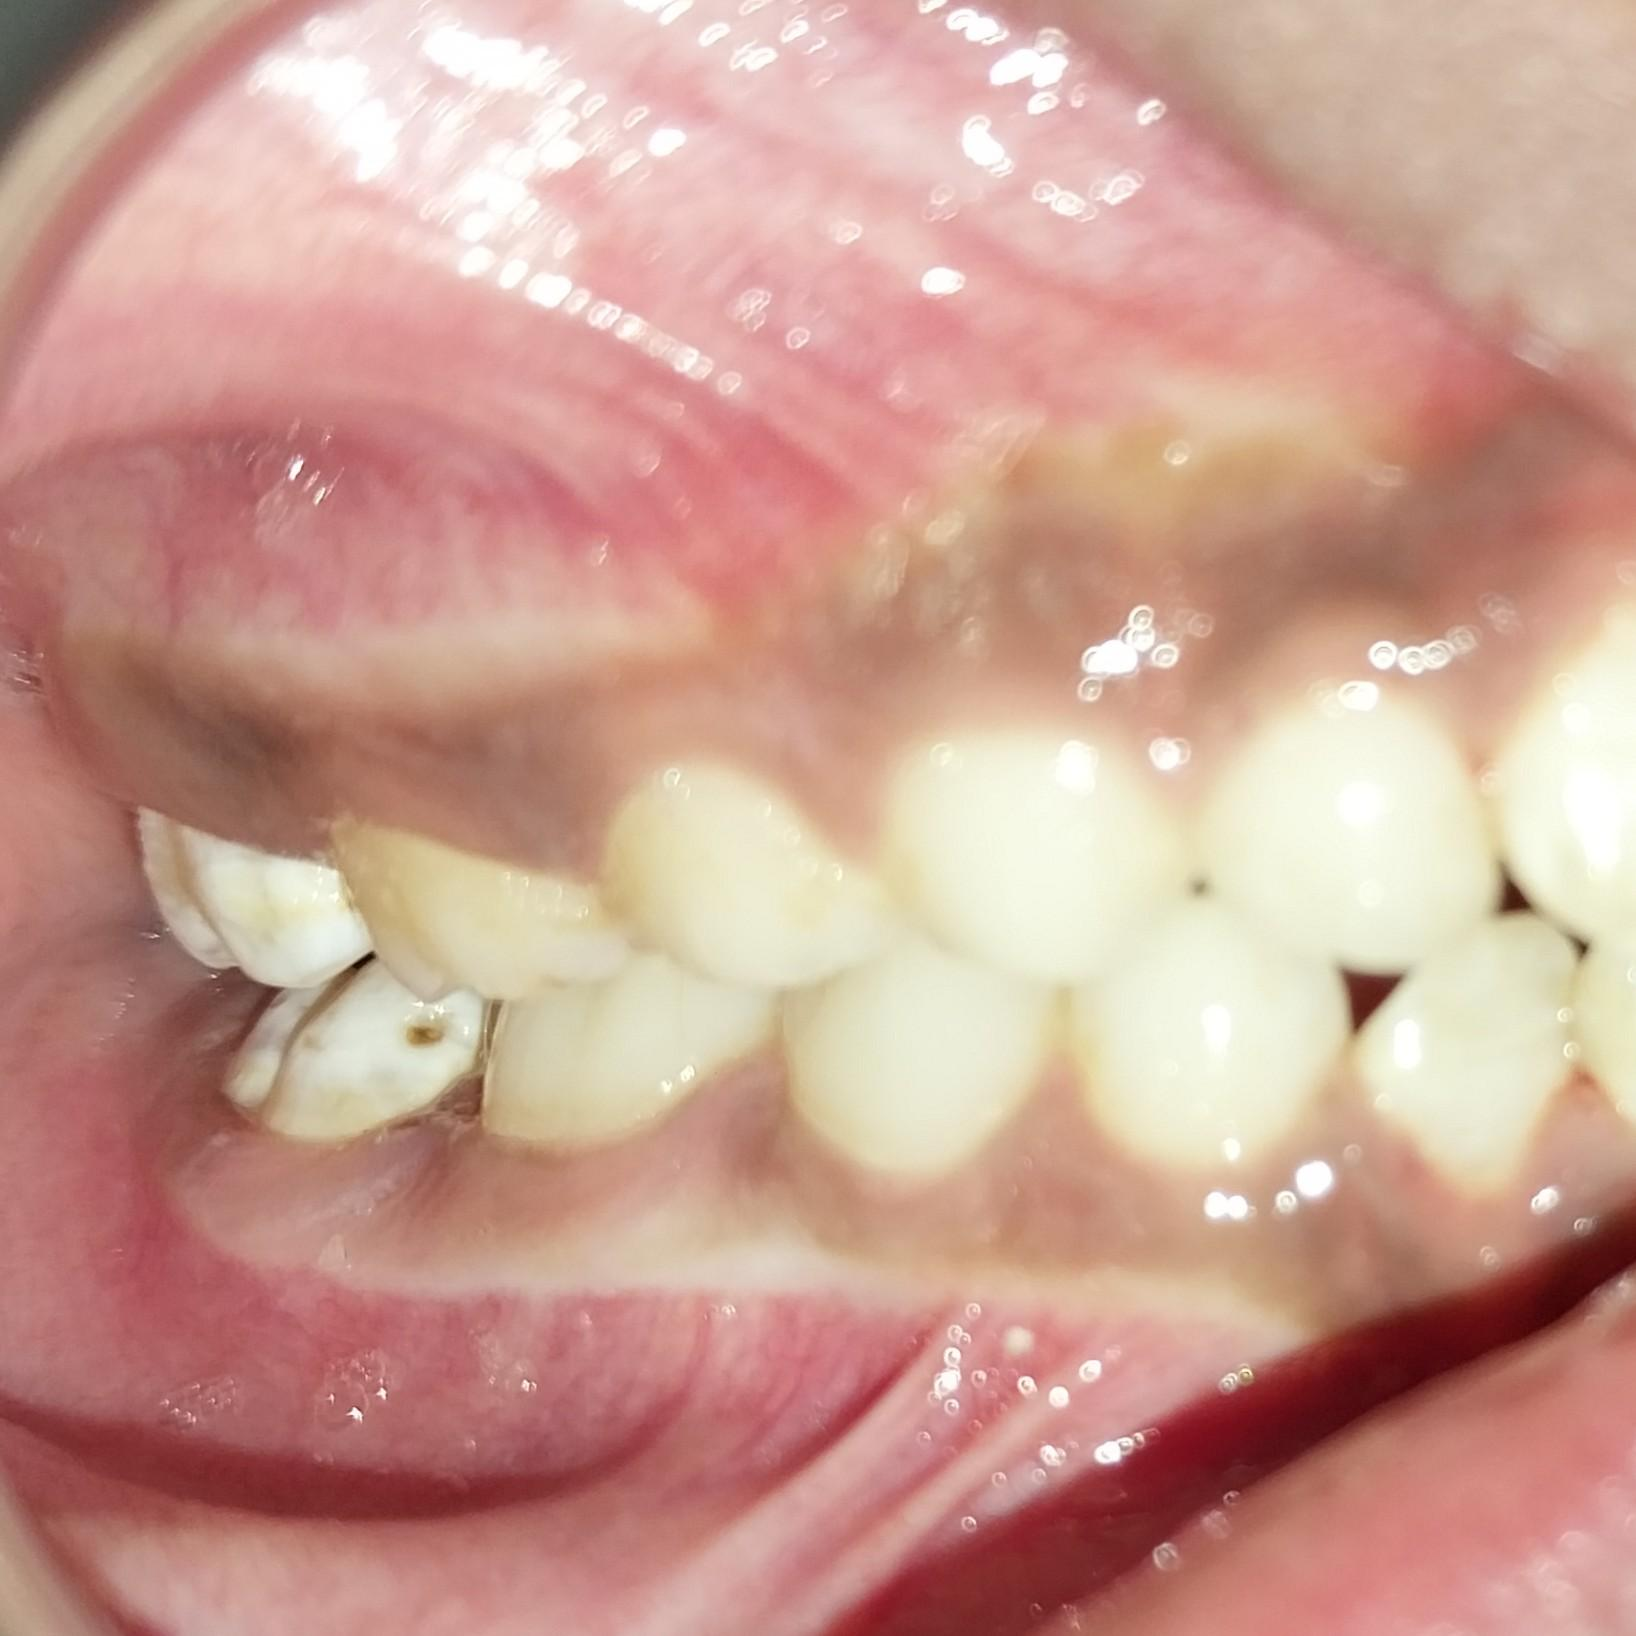D: (217, 954, 493, 1168)
